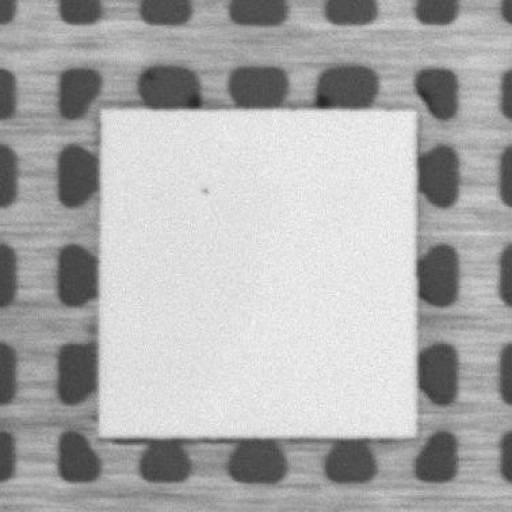DIE_INK: (198, 179, 210, 196)
